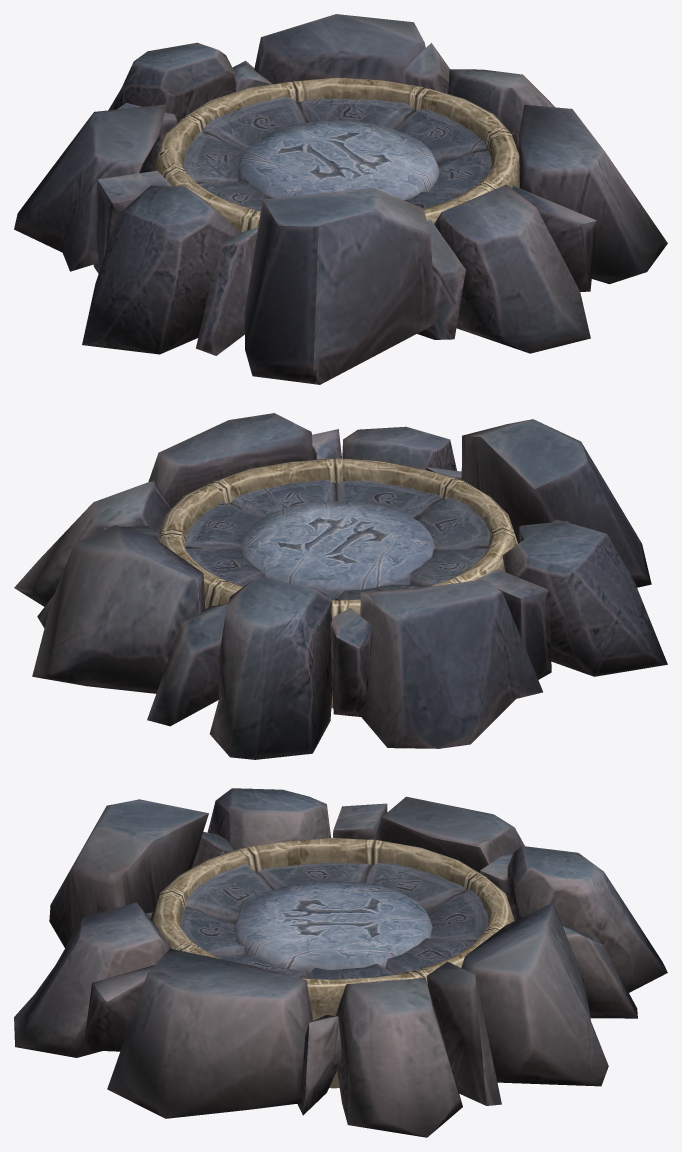
The model's file is character_pedestal.fbx.
3 renders of one model, top to bottom at view 1: azimuth 30°, elevation 25°; view 2: azimuth 150°, elevation 25°; view 3: azimuth 270°, elevation 25°, orthographic.
Parts seen in each view (by area): view 1: character_pedestal_rock, character_pedestal; view 2: character_pedestal_rock, character_pedestal; view 3: character_pedestal_rock, character_pedestal.
Part boxes in pixels (x1,y1,x2,y2): character_pedestal_rock: [14, 14, 667, 384]; character_pedestal: [152, 77, 519, 232]; character_pedestal_rock: [14, 413, 667, 759]; character_pedestal: [159, 458, 517, 708]; character_pedestal_rock: [14, 788, 667, 1137]; character_pedestal: [151, 837, 514, 1088].
Size of the model in its own units: 1381 by 1364 by 338.
